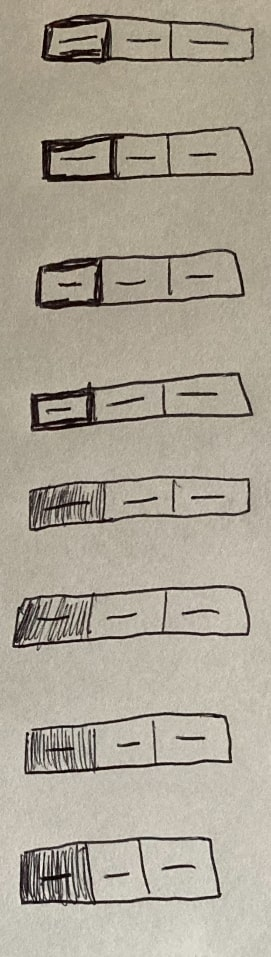radio-group: (24, 369, 257, 437), (40, 7, 257, 75), (35, 123, 260, 184), (32, 248, 247, 310)
